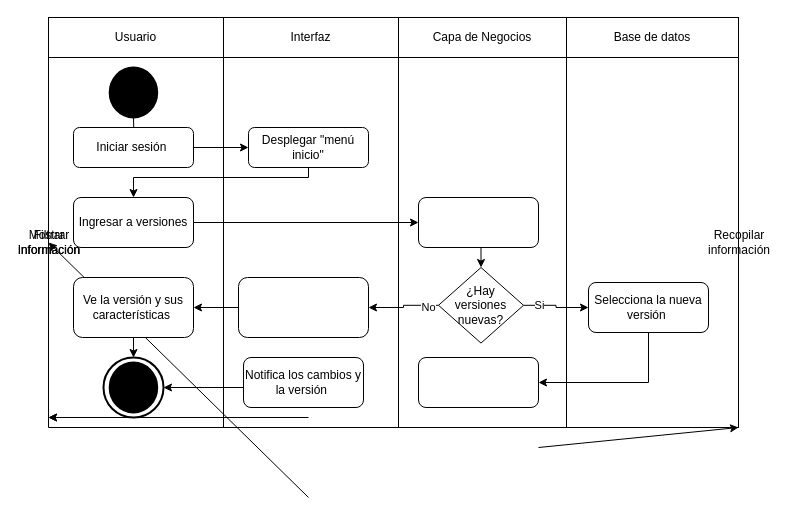
Image size: 787x523. Some labels were removed from this diagram. The centre of each missing label's shape, as x and y in pixels:
"Carga la versión y los cambios hechos" belongs at (478,382).
"Despliega la versión actual y características" belongs at (303,307).
"Llamar los últimos datos actualizados" belongs at (478,222).
